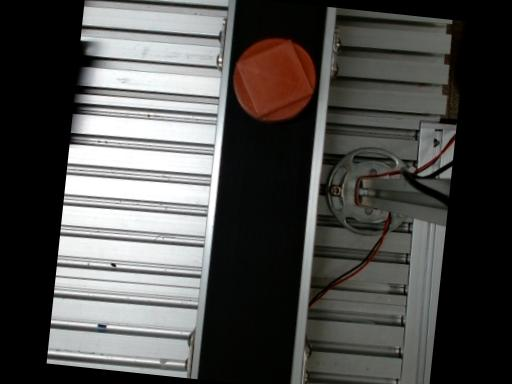Brown_Waper: (231, 38, 314, 121)
Square: (235, 39, 312, 117)
